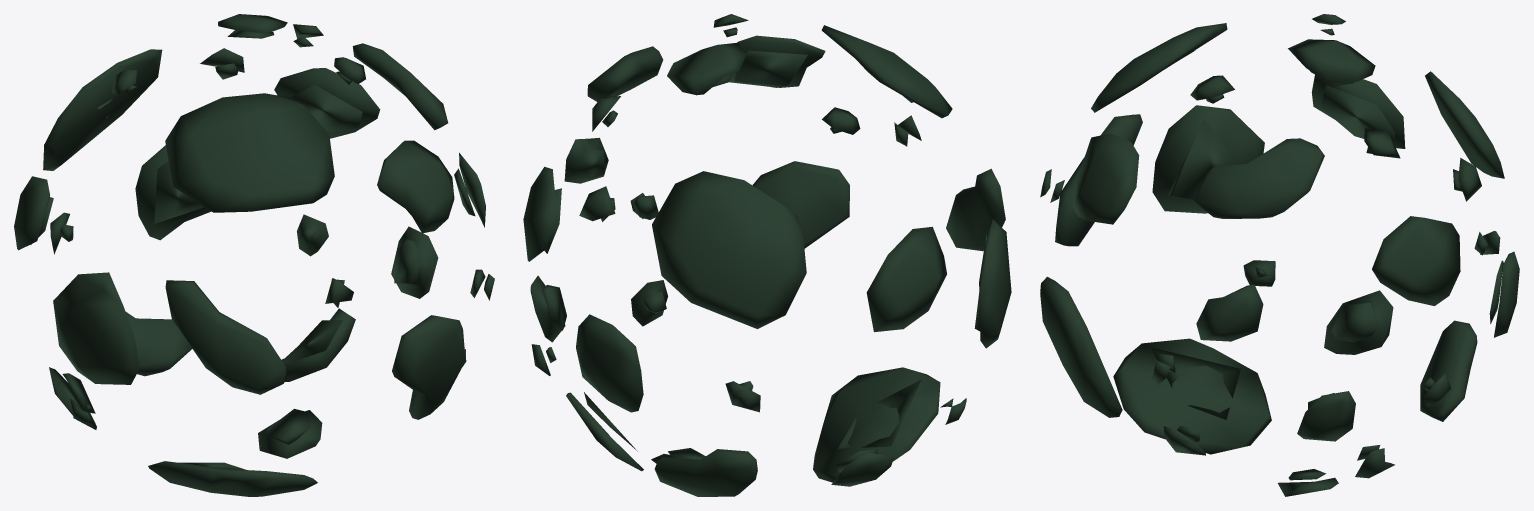
Rendered from Planet_Acc_S_Continents_Low.fbx.
3 renders of one model, left to right at view 1: azimuth 30°, elevation 25°; view 2: azimuth 150°, elevation 25°; view 3: azimuth 270°, elevation 25°, orthographic. The views are drawn at different scales.
Parts seen in each view (by area): view 1: SmallContinentsLow; view 2: SmallContinentsLow; view 3: SmallContinentsLow.
Boxes of the visible parts, box(x1,y1,x2,y2) form: SmallContinentsLow: box(14, 14, 494, 496); SmallContinentsLow: box(523, 14, 1011, 496); SmallContinentsLow: box(1040, 14, 1519, 496).
Bounding box in the file's own units: 2.03 × 2.03 × 2.03.
